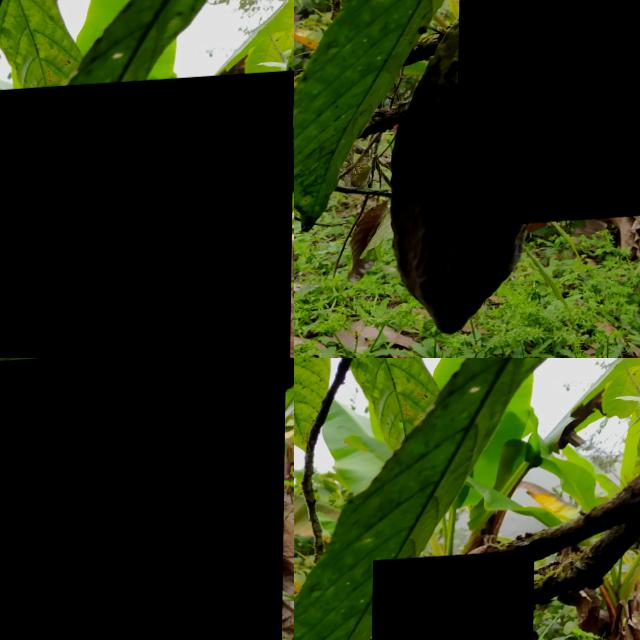Monilia: (457, 0, 640, 231), (370, 555, 535, 640)
Sana: (0, 77, 294, 358), (0, 358, 286, 640)
